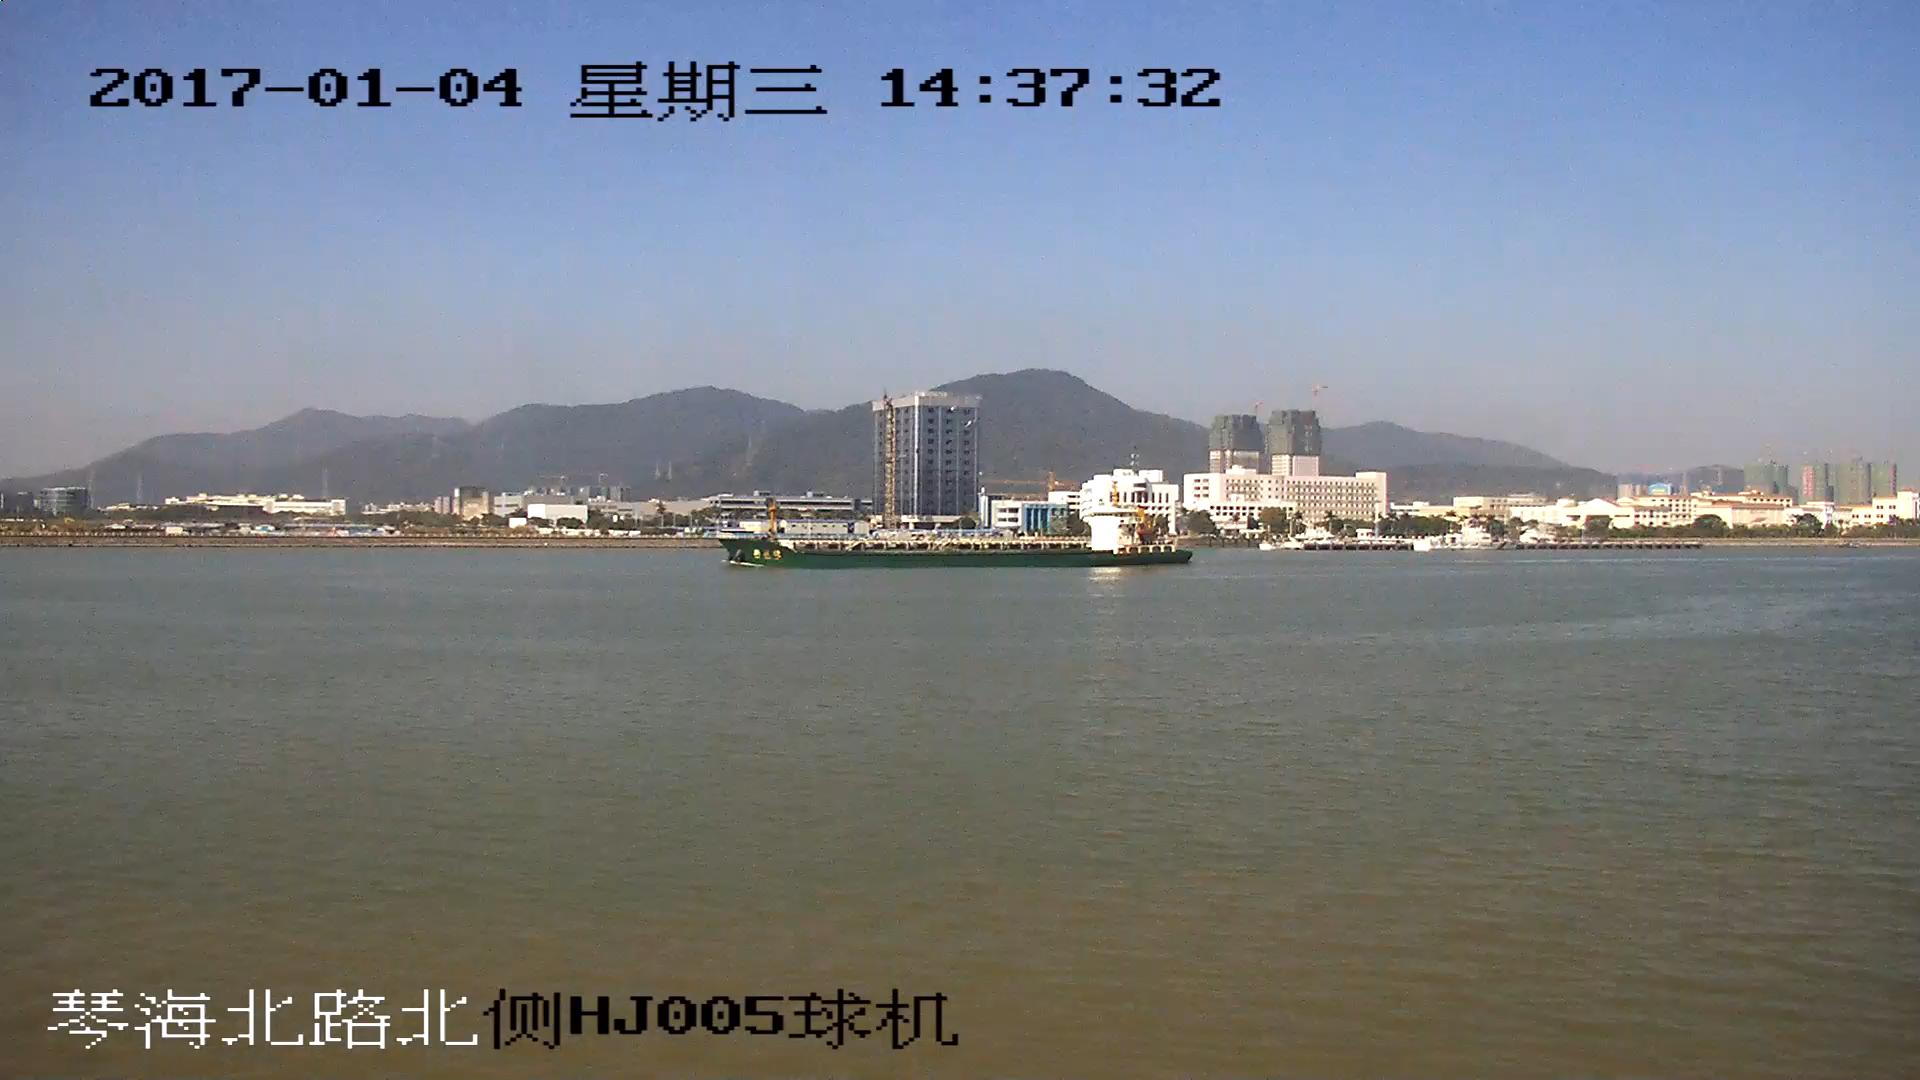general cargo ship: (719, 506, 1194, 570)
